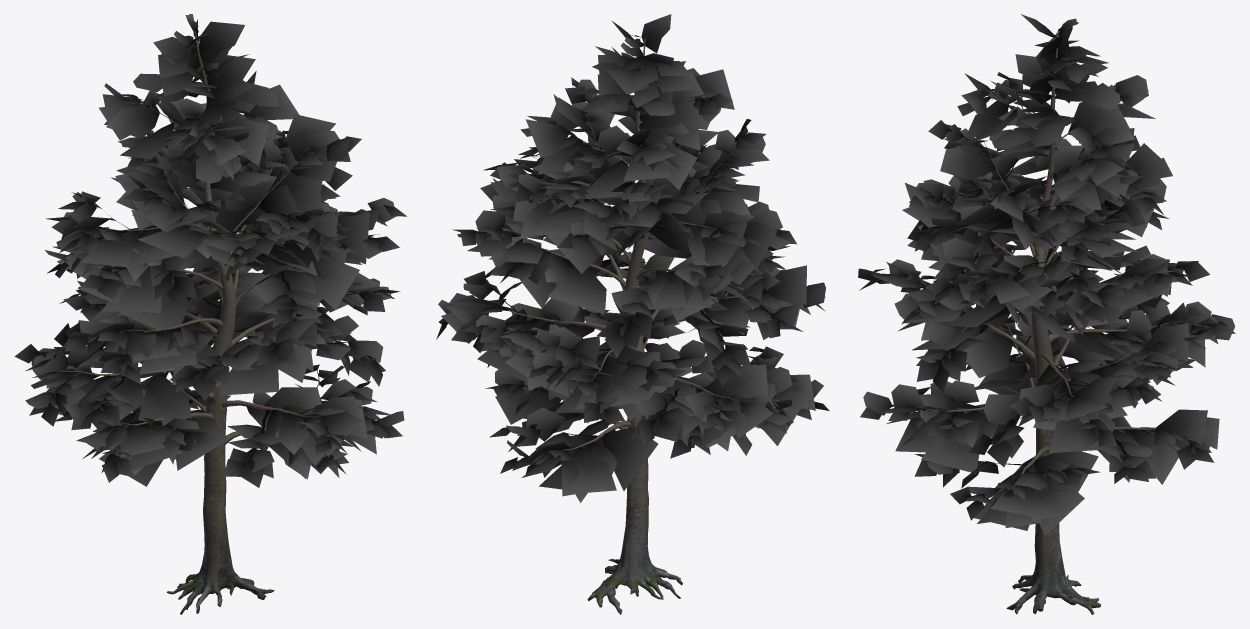
Rendered from beech_tree_03.FBX.
The picture shows the model from 3 angles, left to right: view 1: azimuth 30°, elevation 25°; view 2: azimuth 150°, elevation 25°; view 3: azimuth 270°, elevation 25°; orthographic projection.
Visible parts, largest first — view 1: beech_tree_03_LOD0; view 2: beech_tree_03_LOD0; view 3: beech_tree_03_LOD0.
Boxes of the visible parts, x1,y1,x2,y2 form: beech_tree_03_LOD0: (14,14,406,614); beech_tree_03_LOD0: (436,14,829,614); beech_tree_03_LOD0: (858,14,1235,614).
Size of what is drawn, in the model's own units: 597 by 941 by 554.
